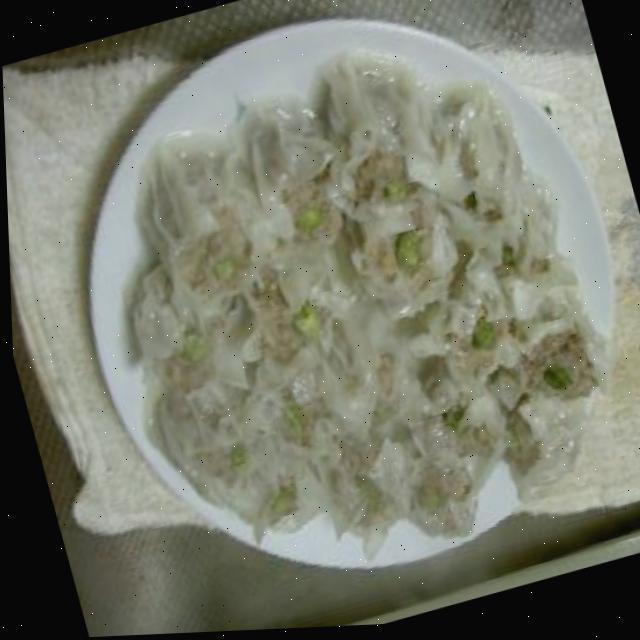带馅早点: (150, 96, 584, 560)
